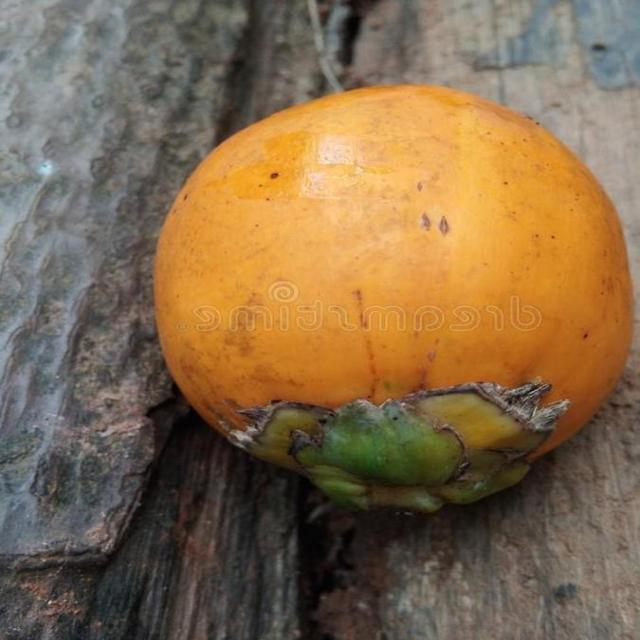good: (154, 85, 634, 517)
